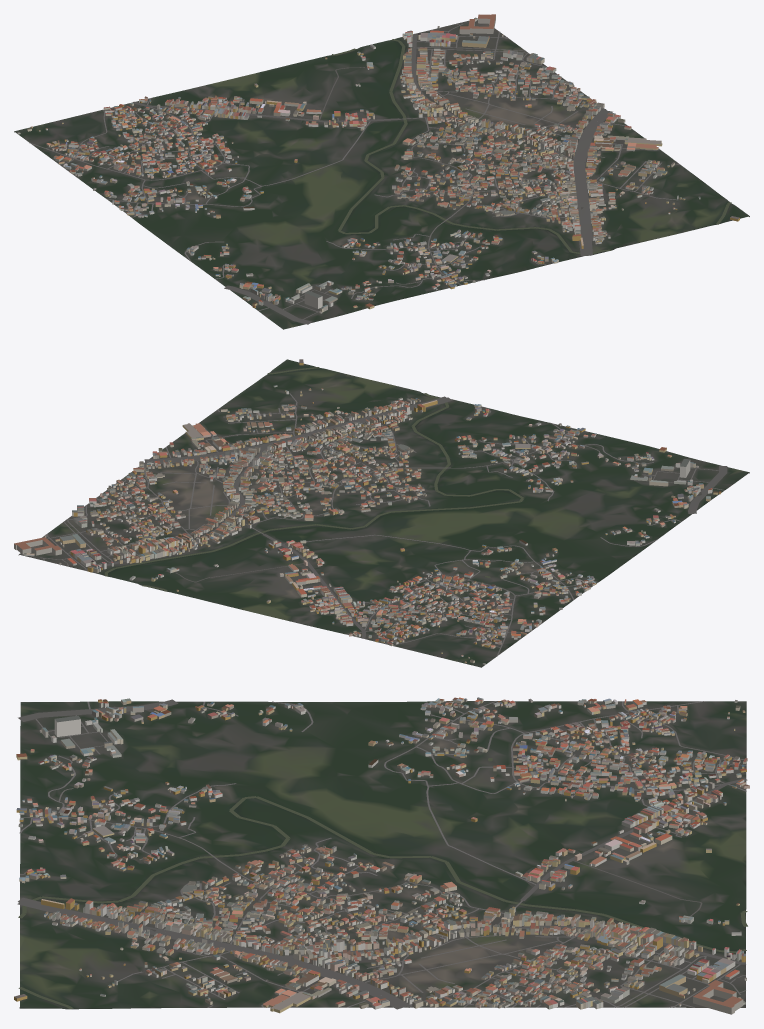
3 views of the same model, one above another, from view 1: azimuth 30°, elevation 25°; view 2: azimuth 150°, elevation 25°; view 3: azimuth 270°, elevation 25° (orthographic). The views are drawn at different scales.
Parts seen in each view (by area): view 1: ground, buildings, roads, water; view 2: ground, buildings, roads, water; view 3: ground, buildings, roads, water.
Boxes of the visible parts, x1=… form: ground: x1=14, y1=20, x2=749, y2=329; buildings: x1=17, y1=14, x2=739, y2=313; roads: x1=29, y1=24, x2=679, y2=324; water: x1=195, y1=39, x2=731, y2=253; ground: x1=18, y1=359, x2=749, y2=667; buildings: x1=14, y1=359, x2=721, y2=665; roads: x1=40, y1=393, x2=727, y2=656; water: x1=104, y1=367, x2=524, y2=591; ground: x1=19, y1=701, x2=746, y2=1009; buildings: x1=14, y1=697, x2=749, y2=1014; roads: x1=17, y1=699, x2=747, y2=1009; water: x1=18, y1=758, x2=747, y2=1009.
Bounding box in the file's own units: 1440 × 36.01 × 1421.
